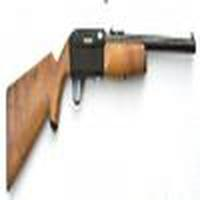gun: (6, 26, 196, 193)
